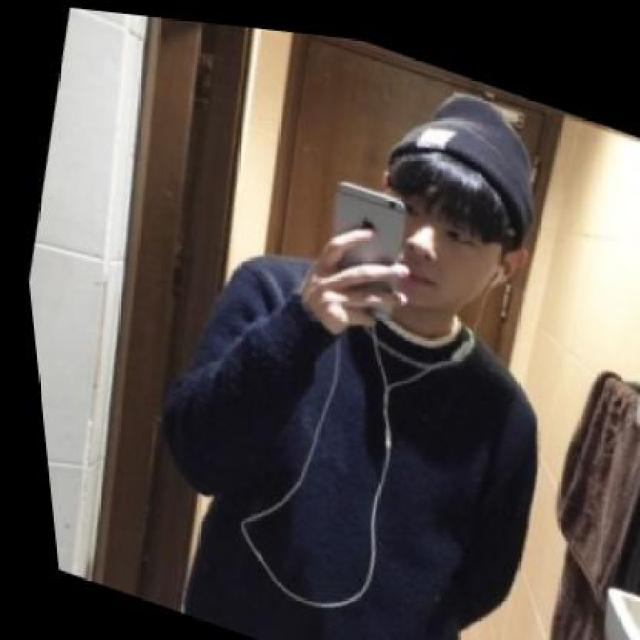hat: (389, 82, 530, 238)
